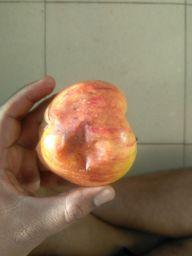Apple Semirotten: (38, 80, 141, 190)
